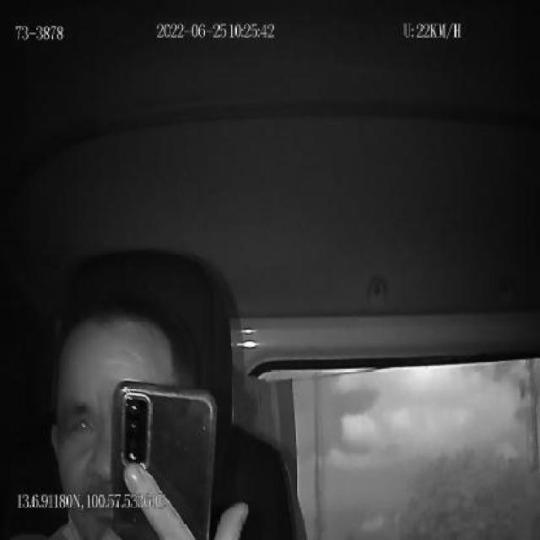phone: (109, 376, 216, 540)
